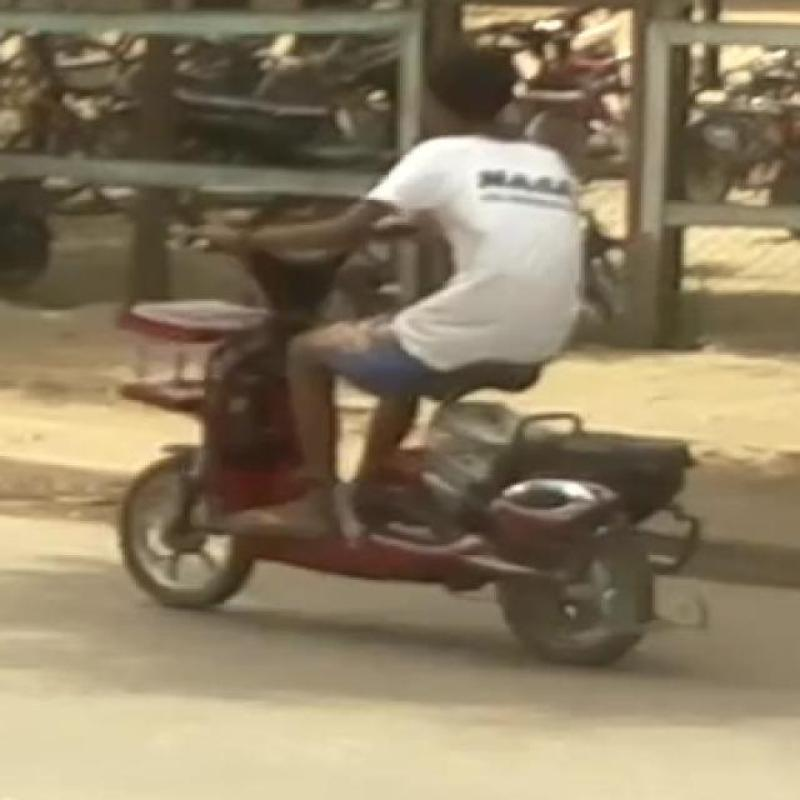nohelmet: (390, 37, 544, 135)
